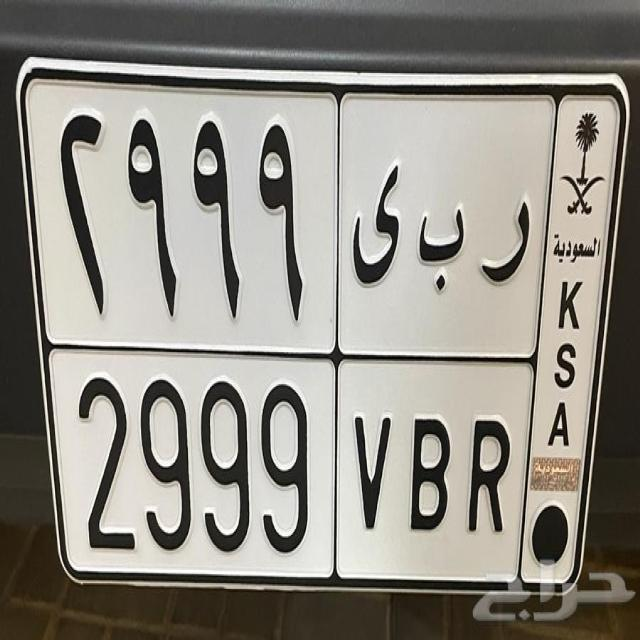license_plate: (41, 344, 529, 589)
